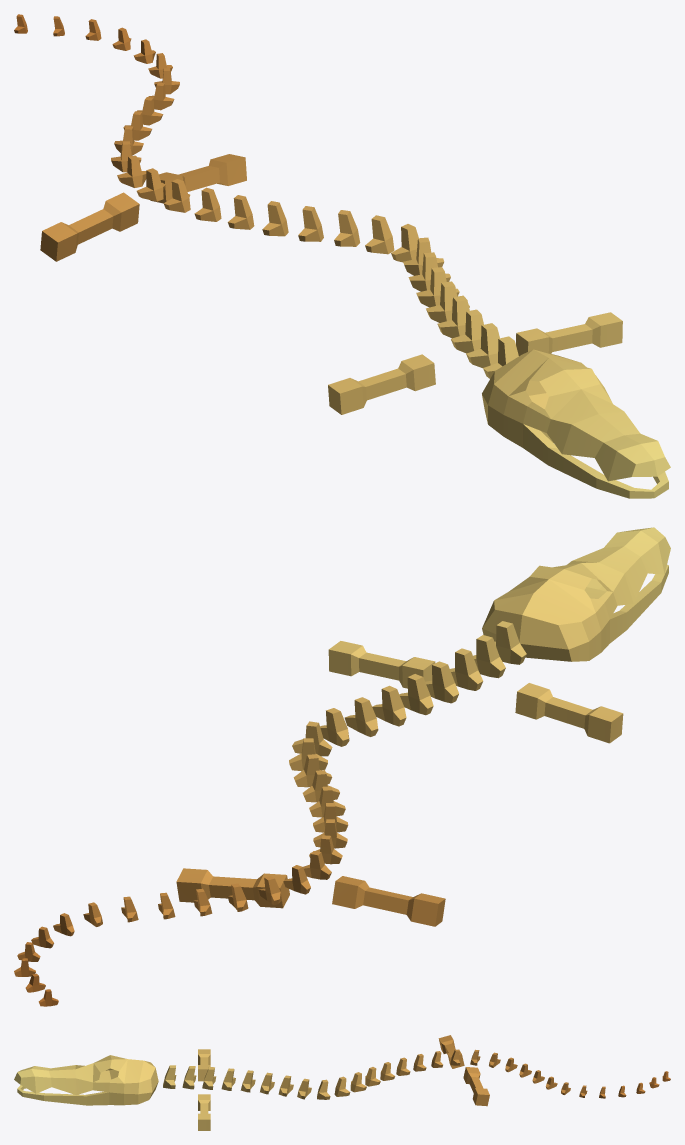
The model's file is skeletalRemains.fbx.
3 renders of one model, top to bottom at view 1: azimuth 30°, elevation 25°; view 2: azimuth 150°, elevation 25°; view 3: azimuth 270°, elevation 25°, orthographic. The views are drawn at different scales.
Visible parts, largest first — view 1: SkeletalRemain; view 2: SkeletalRemain; view 3: SkeletalRemain.
Part boxes in pixels (left/top/right/bottom): SkeletalRemain: left=14, top=14, right=670, bottom=498; SkeletalRemain: left=14, top=527, right=670, bottom=1006; SkeletalRemain: left=14, top=1035, right=670, bottom=1130.
Size of the model in its own units: 326 by 71.02 by 1043.
